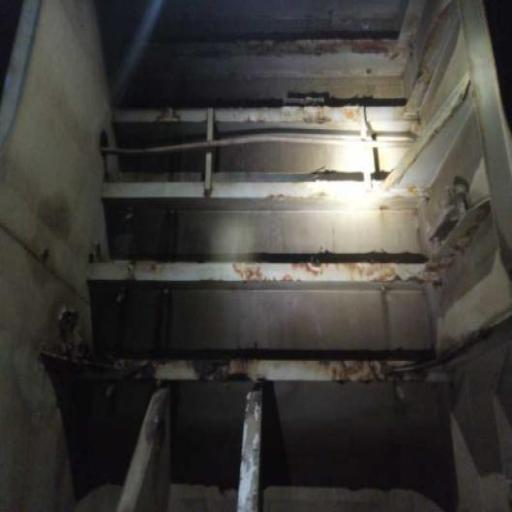Detect-rust-on-metal-surfaces: (231, 259, 430, 290), (230, 37, 401, 67), (324, 352, 449, 389), (185, 356, 262, 390)
